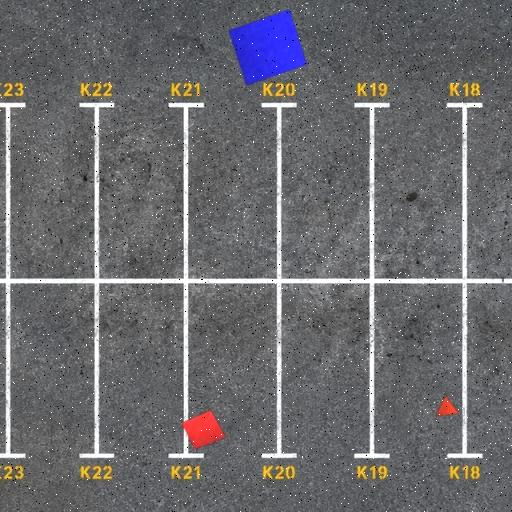BLUE_SQUARE: (227, 8, 308, 86)
RED_SQUARE: (181, 410, 226, 450)
